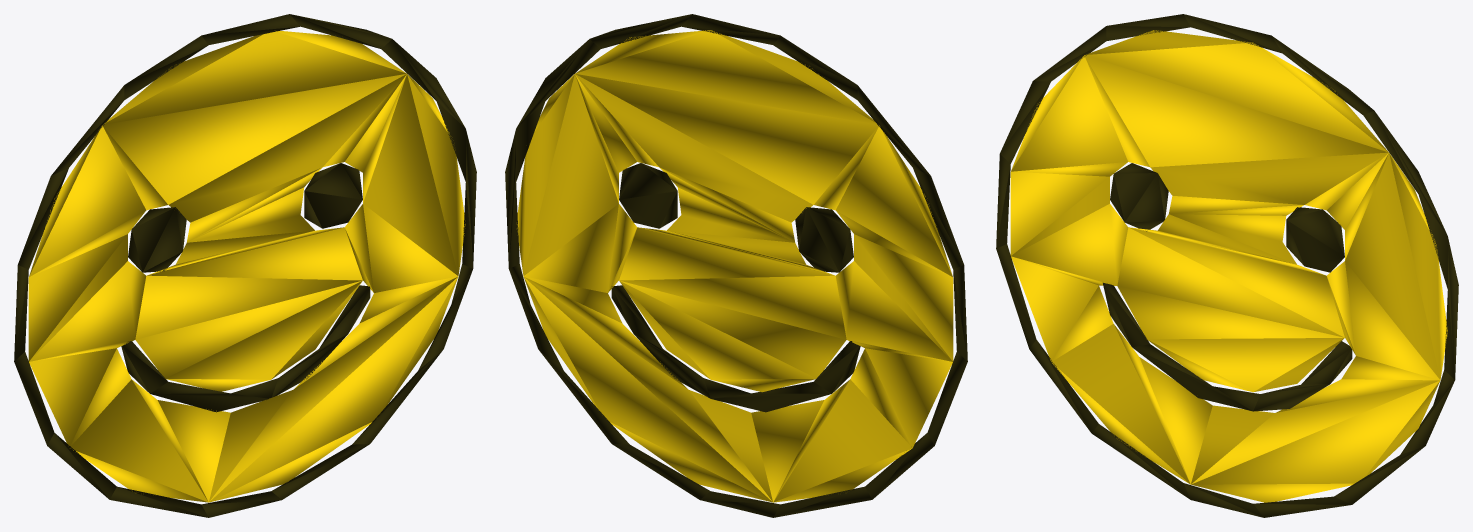
File: smile.glb
3 renders of one model, left to right at view 1: azimuth 30°, elevation 25°; view 2: azimuth 150°, elevation 25°; view 3: azimuth 330°, elevation 25°, orthographic.
Parts seen in each view (by area): view 1: smile; view 2: smile; view 3: smile.
Part boxes in pixels (x1=…): smile: x1=14, y1=14, x2=476, y2=517; smile: x1=505, y1=14, x2=967, y2=517; smile: x1=996, y1=14, x2=1458, y2=517.
Size of the model in its own units: 1 by 1 by 0.
